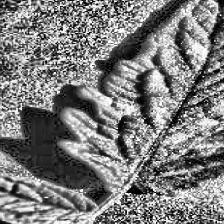leaf mold: (61, 0, 224, 190)
